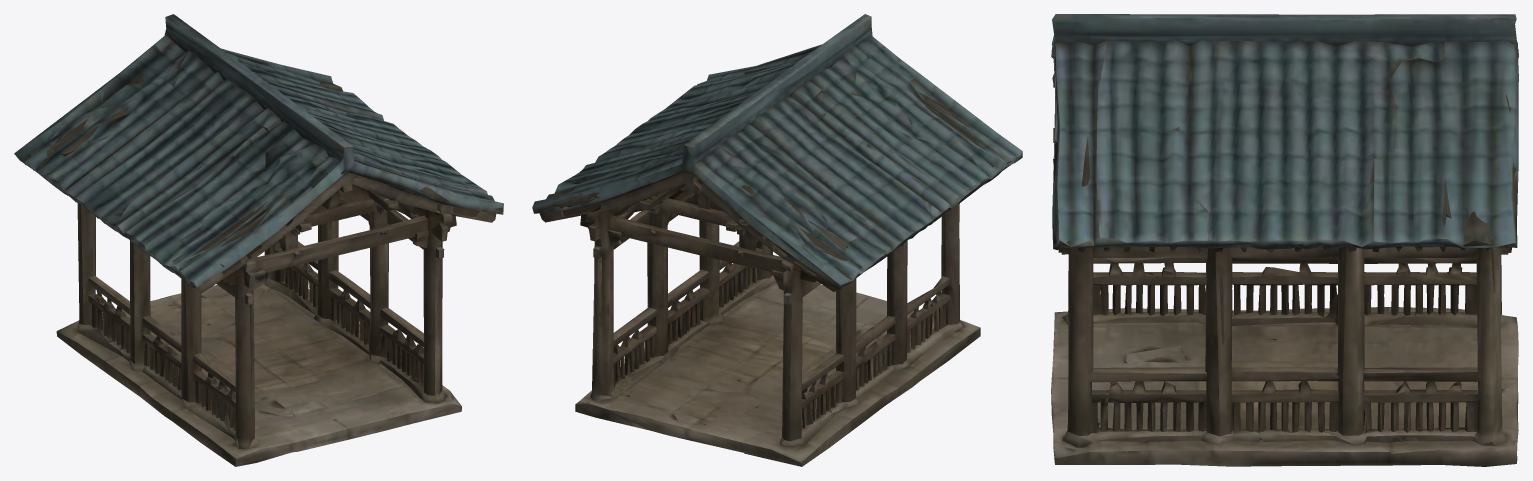
The model's file is ARCH-004.glb.
3 views of the same model, side by side, from view 1: azimuth 30°, elevation 25°; view 2: azimuth 150°, elevation 25°; view 3: azimuth 270°, elevation 25° (orthographic). The views are drawn at different scales.
Visible parts, largest first — view 1: world; view 2: world; view 3: world.
Part boxes in pixels (<box>): world: <box>14,14,503,466</box>; world: <box>532,14,1022,466</box>; world: <box>1051,14,1518,466</box>.
Size of the model in its own units: 6 by 5.35 by 5.98.
1 material, 1 textured.
